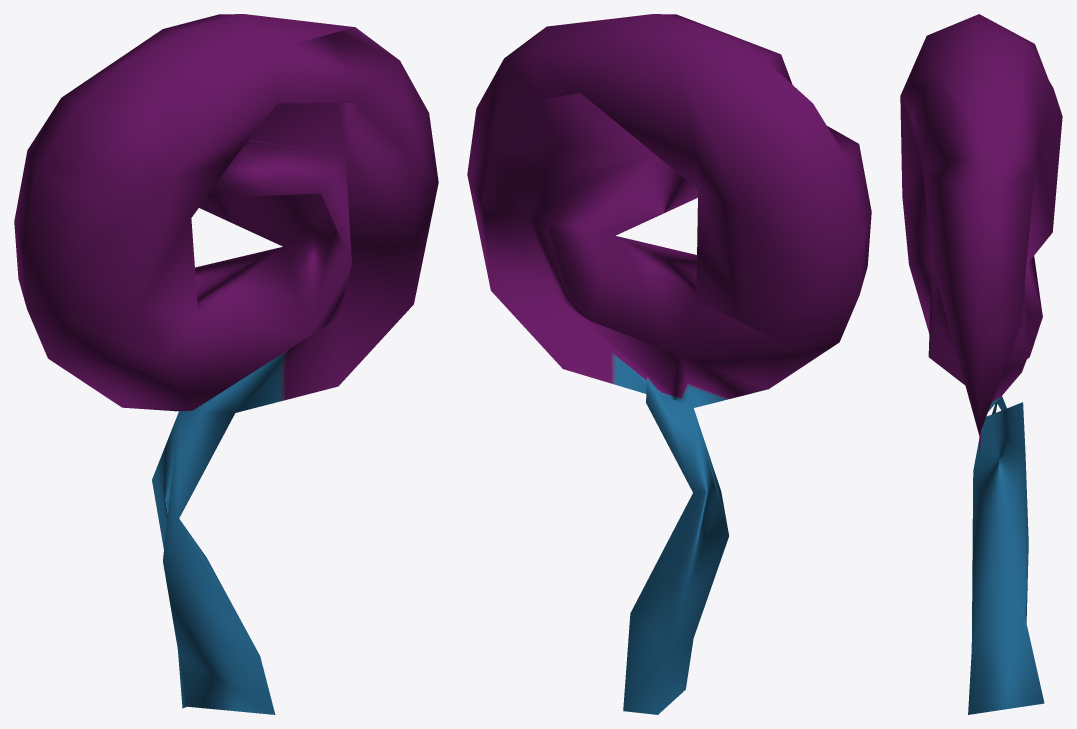
Rendered from usk_Tree_Swirl_lod.glb.
3 renders of one model, left to right at view 1: azimuth 30°, elevation 25°; view 2: azimuth 150°, elevation 25°; view 3: azimuth 270°, elevation 25°, orthographic. The views are drawn at different scales.
Visible parts, largest first — view 1: Tree_Swirl_2; view 2: Tree_Swirl_2; view 3: Tree_Swirl_2.
Boxes of the visible parts, x1,y1,x2,y2 form: Tree_Swirl_2: (14, 14, 438, 714); Tree_Swirl_2: (467, 14, 871, 714); Tree_Swirl_2: (900, 14, 1062, 714).
Size of the model in its own units: 3.07 by 4.99 by 1.12.
Materials: 1 (1 with a texture image).
